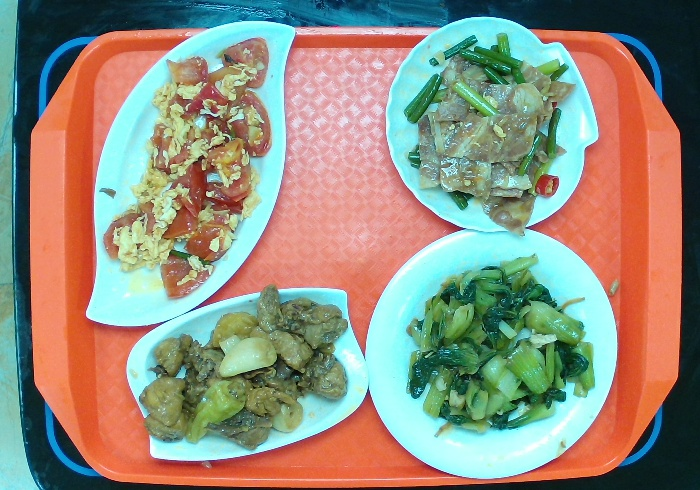RJxy-Bei_Ke_Wan: (379, 13, 603, 243)
RJxy-Jian_Jiao_Fang_Die: (119, 282, 378, 469)
RJxy-Jian_Jiao_Pan: (83, 17, 304, 336)
RJxy-Yuan_Pan: (360, 216, 632, 489)
